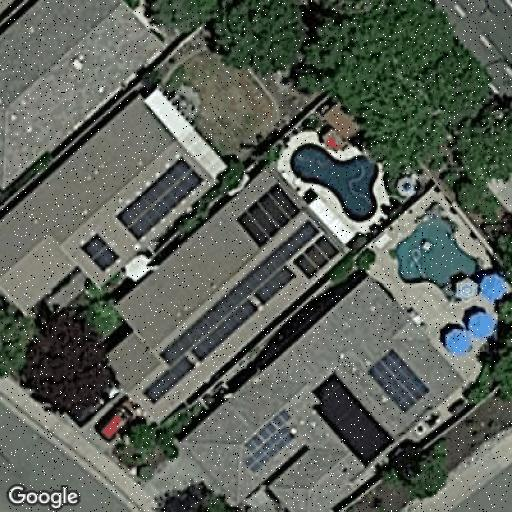solar-panel: (311, 372, 397, 466), (111, 156, 207, 240), (252, 221, 340, 303), (189, 272, 257, 360), (233, 182, 303, 250), (236, 404, 302, 472), (142, 326, 196, 406), (366, 348, 430, 410), (74, 231, 124, 273)
